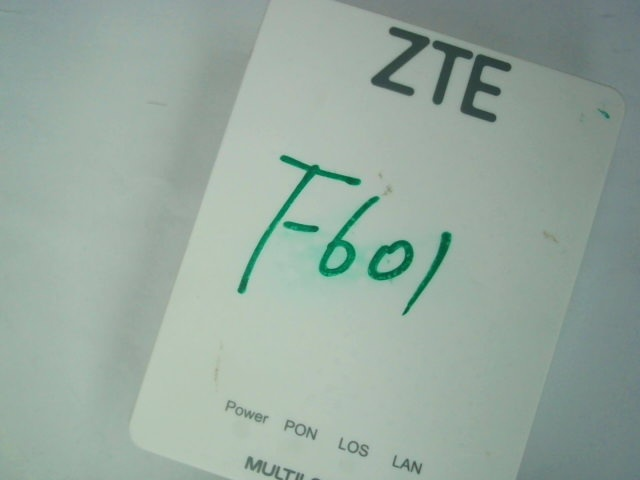AN_ZTE: (369, 18, 517, 126)
